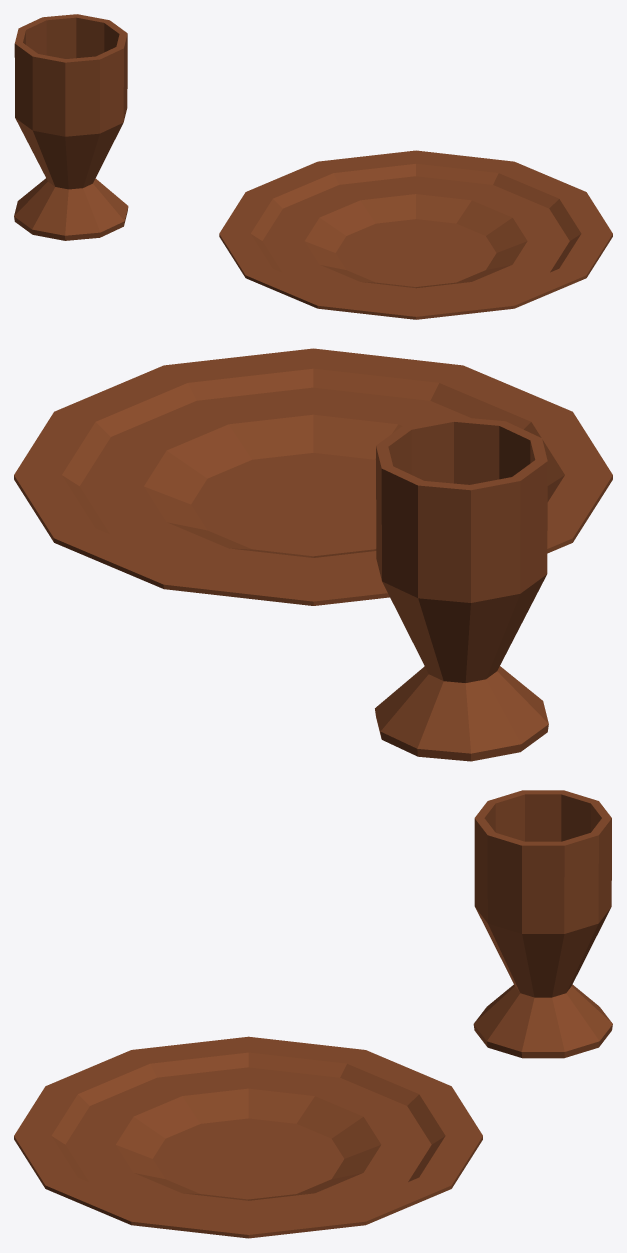
File: Bord en beker.fbx
3 renders of one model, top to bottom at view 1: azimuth 30°, elevation 25°; view 2: azimuth 150°, elevation 25°; view 3: azimuth 270°, elevation 25°, orthographic. The views are drawn at different scales.
Parts seen in each view (by area): view 1: Bord, Beker; view 2: Bord, Beker; view 3: Bord, Beker.
Boxes of the visible parts, x1,y1,x2,y2 form: Bord: [219, 150, 612, 319]; Beker: [14, 14, 128, 240]; Bord: [14, 348, 612, 605]; Beker: [375, 416, 548, 761]; Bord: [14, 1036, 482, 1238]; Beker: [473, 790, 612, 1058].
Bounding box in the file's own units: 54.03 × 20.93 × 53.48.
